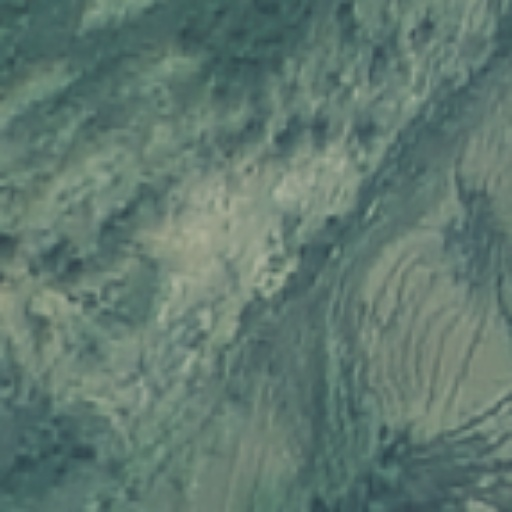landslide: (150, 122, 361, 327)
